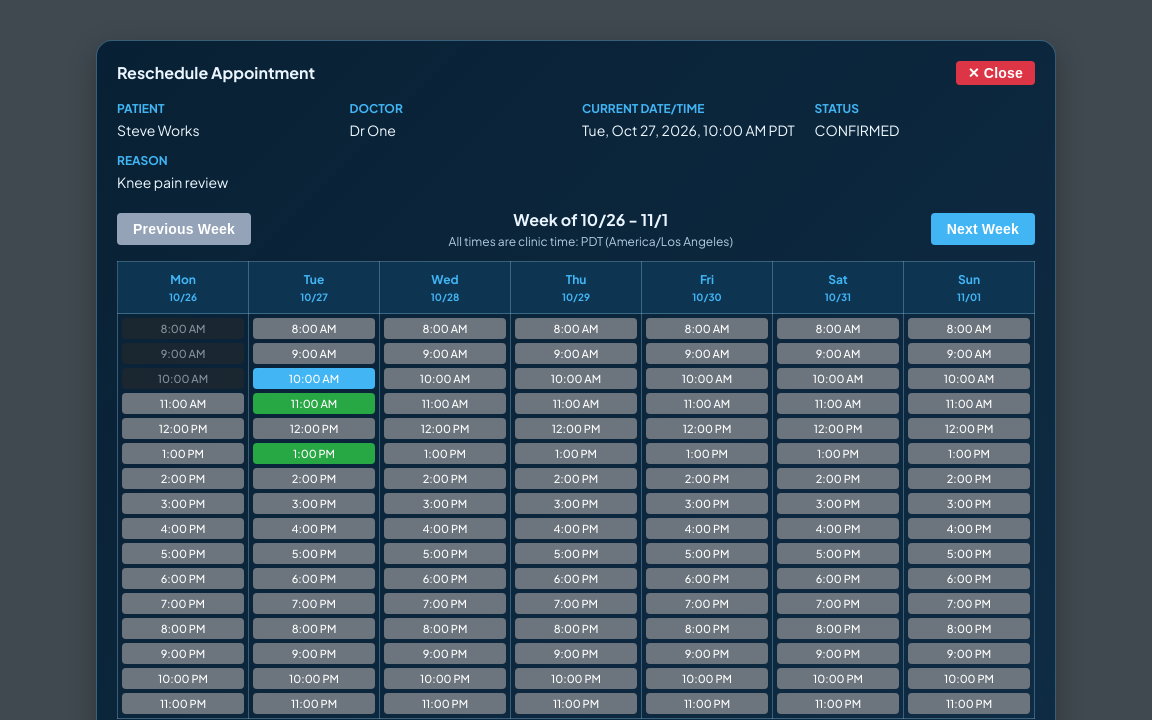
Test: RescheduleAppointmentModal › shows the server's error and stays open
Click the 2nd text "11:00 AM": (314, 404) [253,393,375,414]
(page scrolled)
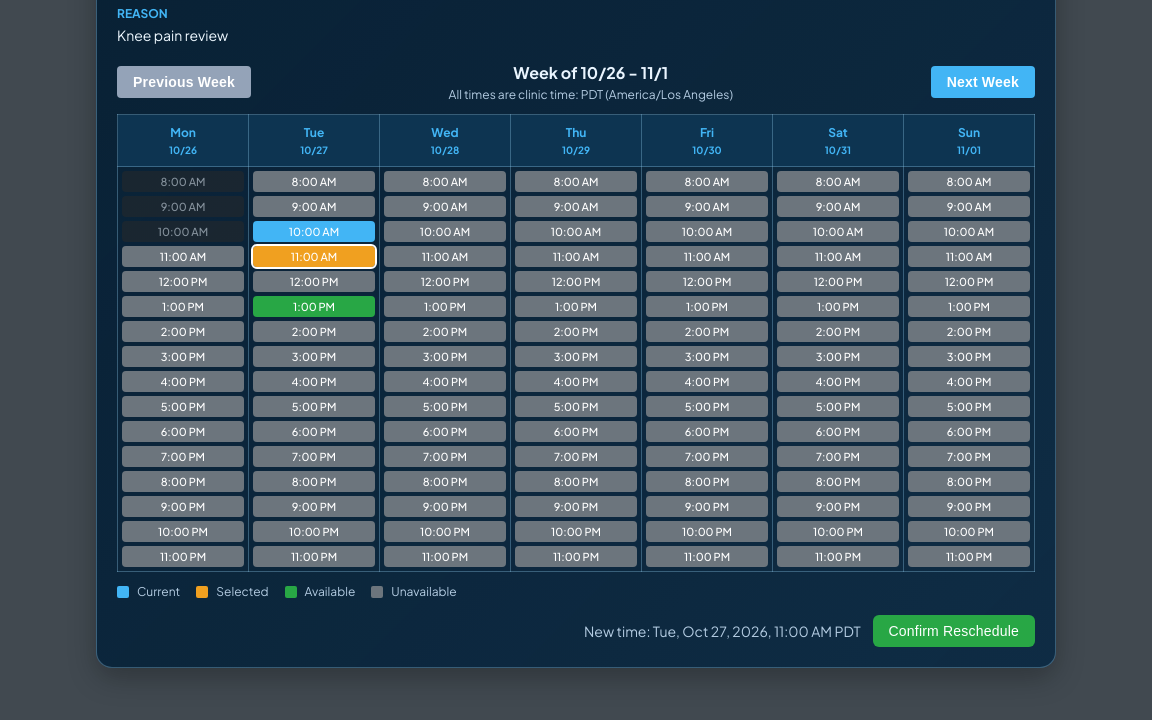
Click the button "Confirm Reschedule": (954, 631) [873,615,1035,647]
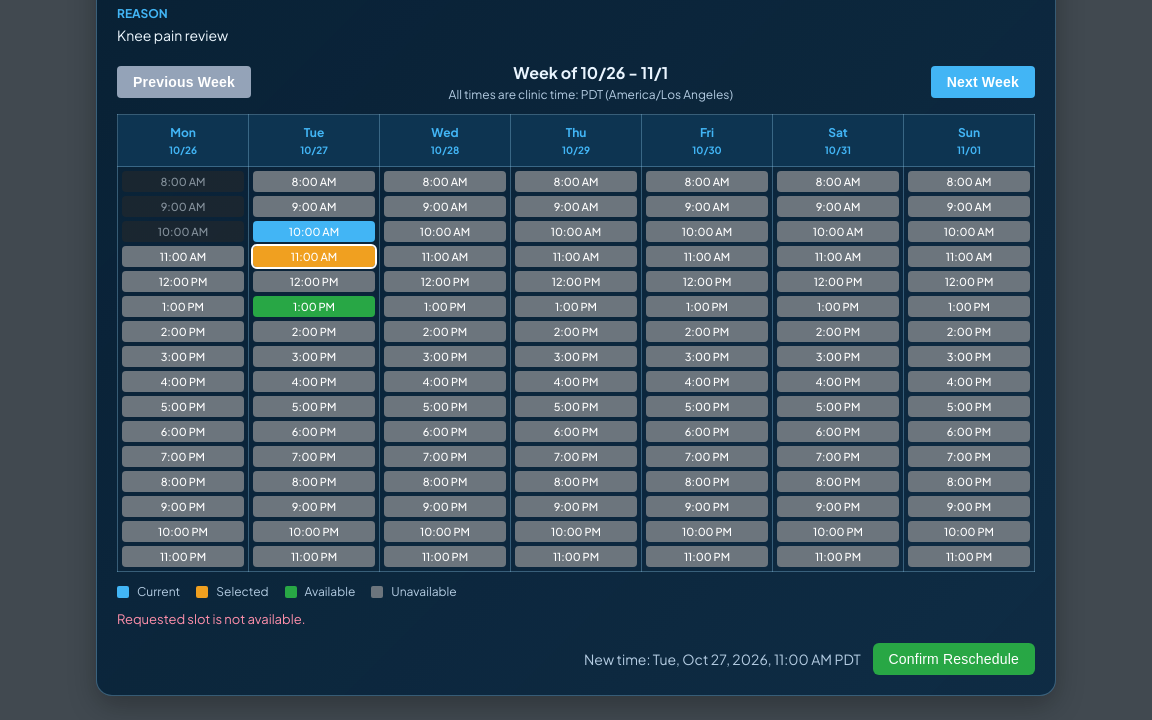
expect the text "Requested slot is not available." is shown: met, box [117,611,305,627]
